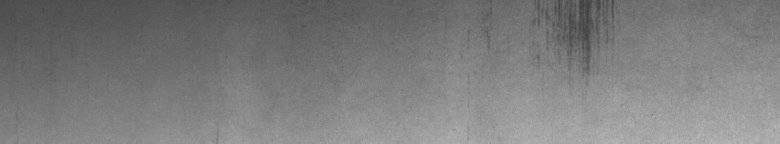ka: (485, 4, 619, 75)
